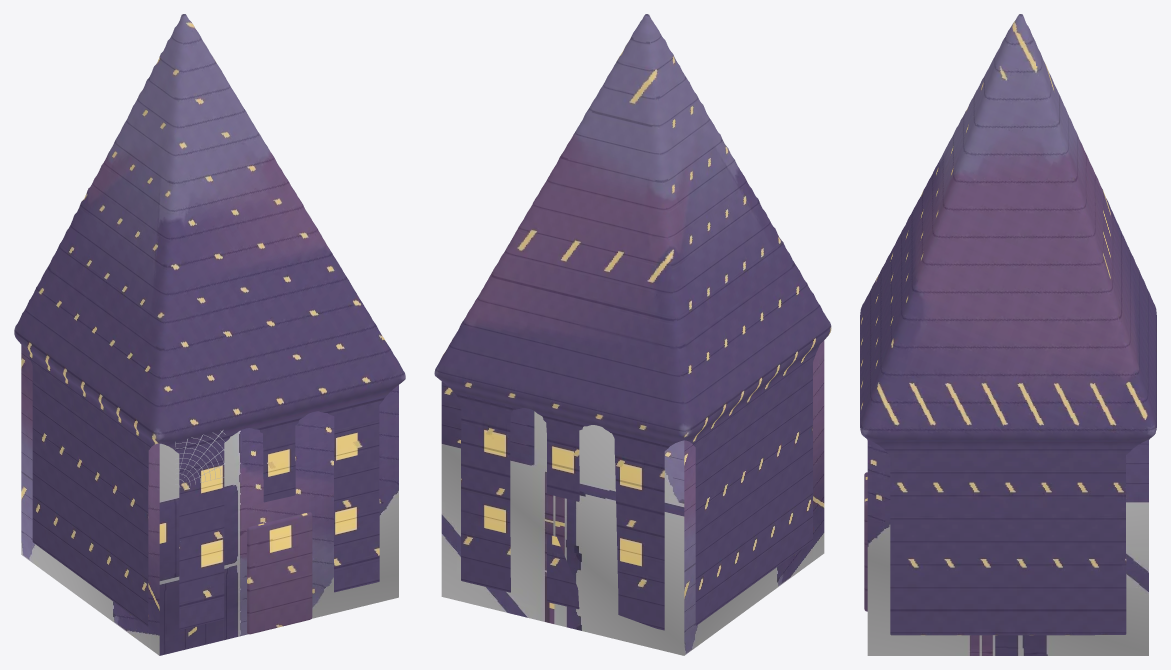
File: house_tower.glb
The picture shows the model from 3 angles, left to right: view 1: azimuth 30°, elevation 25°; view 2: azimuth 150°, elevation 25°; view 3: azimuth 270°, elevation 25°; orthographic projection.
Parts seen in each view (by area): view 1: lod0, col, door, cobweb; view 2: lod0, col; view 3: lod0, col, door.
Boxes of the visible parts, bbox=[...] form: lod0: bbox=[14, 14, 405, 630]; col: bbox=[21, 345, 398, 655]; door: bbox=[247, 512, 312, 634]; cobweb: bbox=[175, 430, 225, 487]; lod0: bbox=[434, 14, 831, 630]; col: bbox=[441, 340, 824, 655]; lod0: bbox=[860, 14, 1156, 635]; col: bbox=[867, 439, 1148, 655]; door: bbox=[864, 472, 867, 611].
Size of what is drawn, in the model's own units: 7.39 by 15.72 by 7.39.
Materials: 2 (2 with a texture image).
